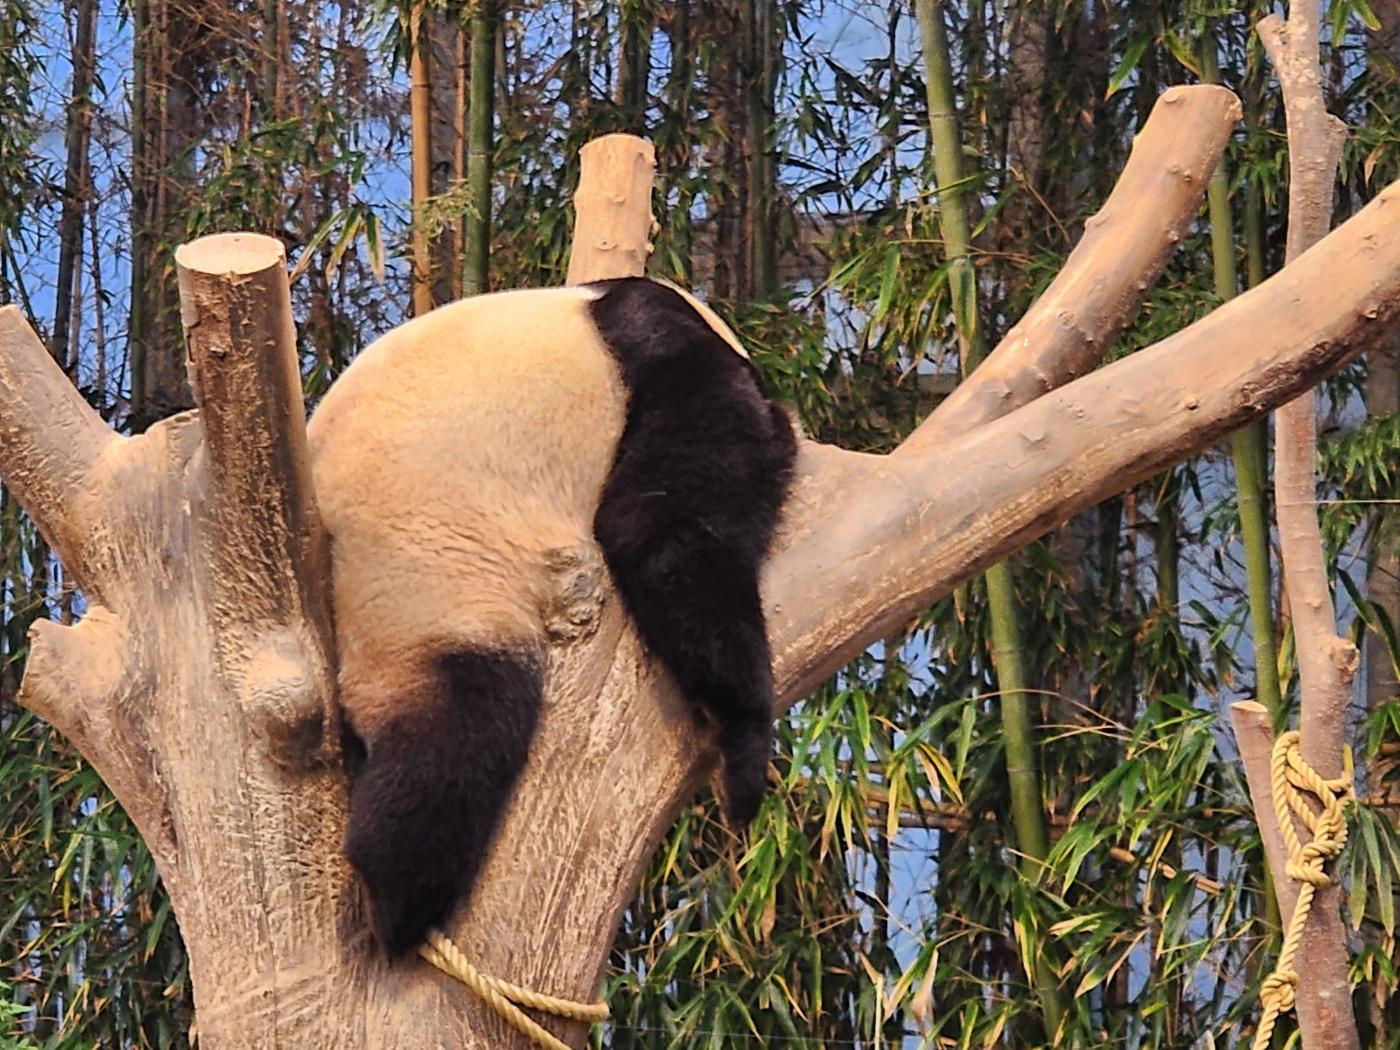panda: (300, 272, 799, 961)
